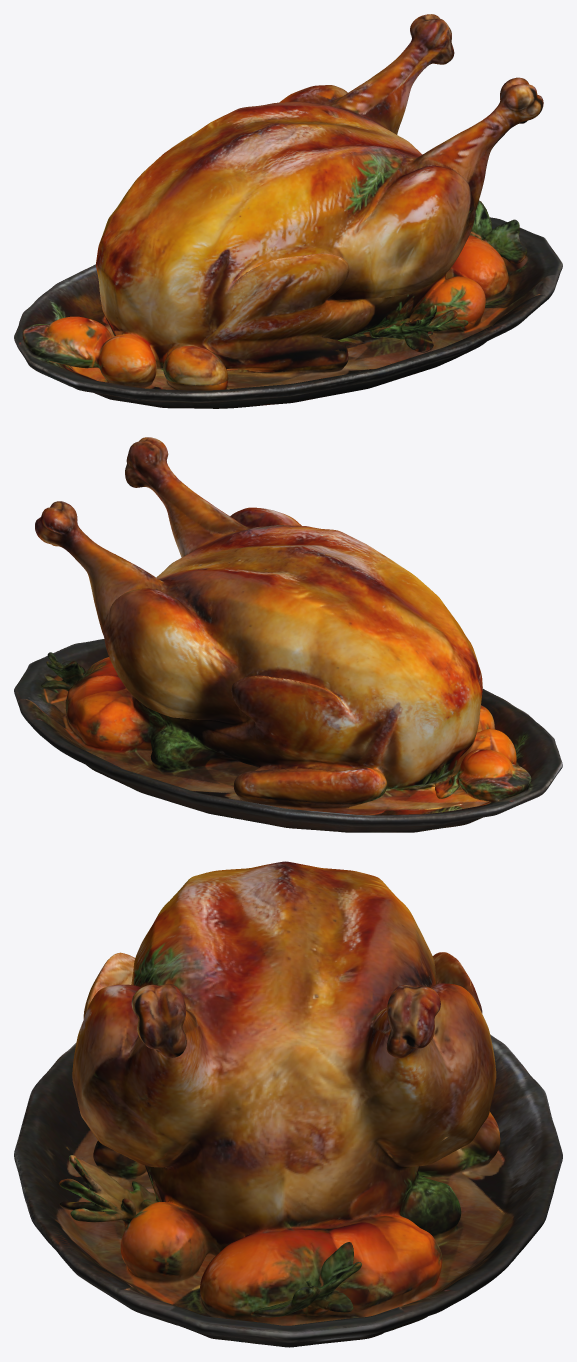
The model's file is a_roast_chicken_prop__0309010317_texture.fbx.
3 views of the same model, one above another, from view 1: azimuth 30°, elevation 25°; view 2: azimuth 150°, elevation 25°; view 3: azimuth 270°, elevation 25° (orthographic). The views are drawn at different scales.
Parts seen in each view (by area): view 1: Mesh1_Mesh1.067; view 2: Mesh1_Mesh1.067; view 3: Mesh1_Mesh1.067.
Boxes of the visible parts, x1,y1,x2,y2 form: Mesh1_Mesh1.067: (14, 14, 562, 408); Mesh1_Mesh1.067: (14, 437, 562, 832); Mesh1_Mesh1.067: (14, 861, 562, 1347).
Size of the model in its own units: 200 by 87.91 by 129.
1 material, 1 textured.
